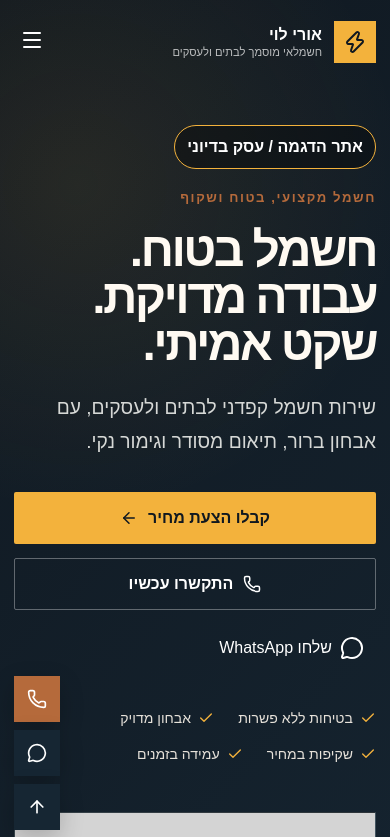
Test: supports an accessible mobile navigation interaction
Step 1. Click the button named "פתיחת תפריט" → coordinates (32, 42), box [14, 27, 50, 57]
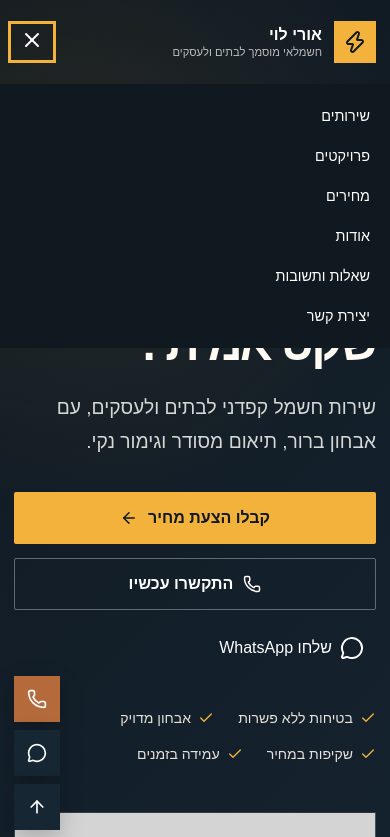
expect the button named "פתיחת תפריט" is expanded: met, box [14, 27, 50, 57]
expect the link "שירותים" is shown: met
Step 2. Click the link "שירותים" → coordinates (346, 116), box [321, 108, 370, 124]
(page scrolled)
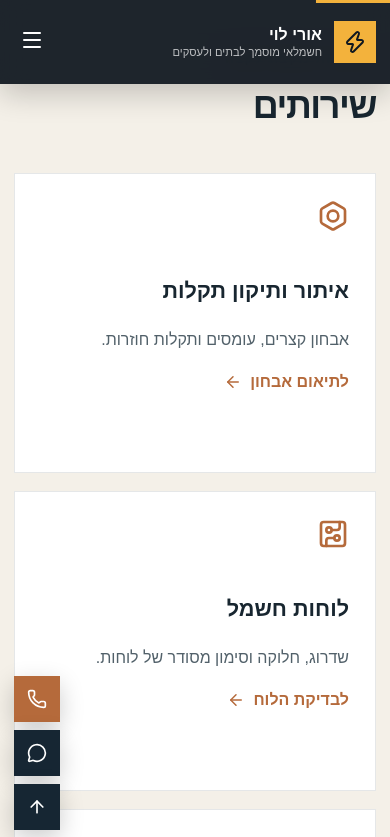
expect the button named "פתיחת תפריט" is collapsed: met, box [14, 27, 50, 57]
